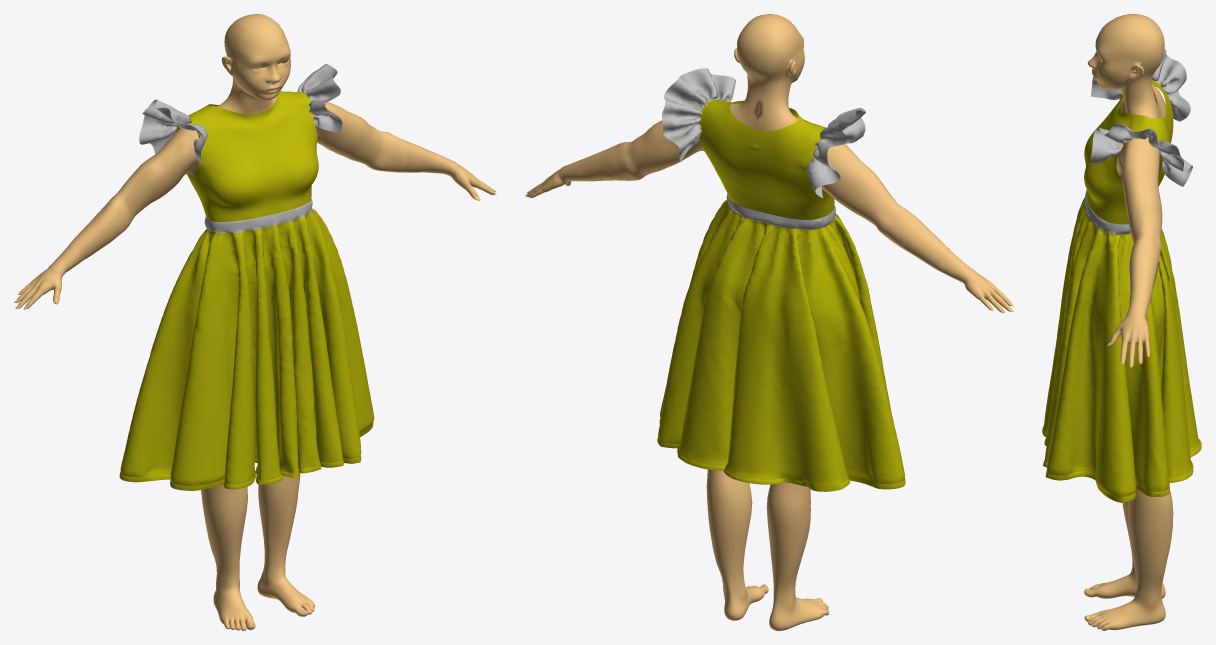
The model's file is dress10.glb.
3 renders of one model, left to right at view 1: azimuth 30°, elevation 25°; view 2: azimuth 150°, elevation 25°; view 3: azimuth 270°, elevation 25°, orthographic.
Parts seen in each view (by area): view 1: PinkDrees#14 (OBJ), Body; view 2: PinkDrees#14 (OBJ), Body; view 3: PinkDrees#14 (OBJ), Body.
Part boxes in pixels (bbox=[...]): PinkDrees#14 (OBJ): bbox=[119, 63, 374, 490]; Body: bbox=[16, 14, 496, 630]; PinkDrees#14 (OBJ): bbox=[657, 68, 905, 491]; Body: bbox=[526, 14, 1010, 630]; PinkDrees#14 (OBJ): bbox=[1042, 49, 1201, 502]; Body: bbox=[1084, 14, 1173, 630].
Size of the model in its own units: 1.58 by 1.85 by 0.451.
